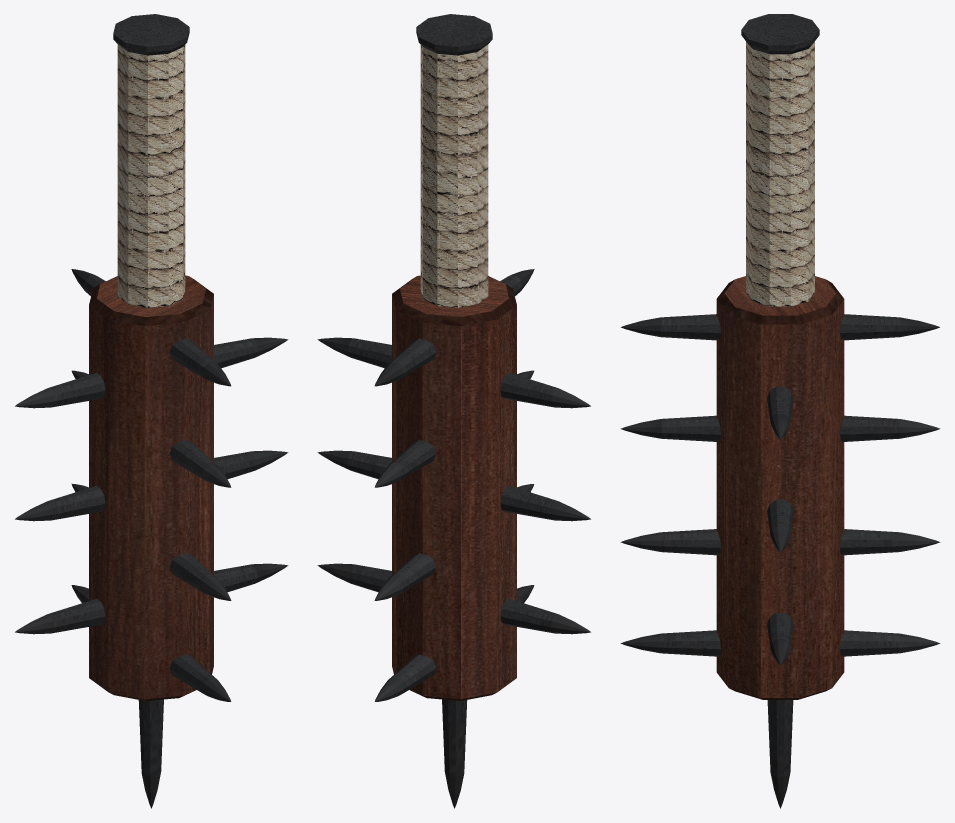
File: TrenchClub.fbx
3 renders of one model, left to right at view 1: azimuth 30°, elevation 25°; view 2: azimuth 150°, elevation 25°; view 3: azimuth 270°, elevation 25°, orthographic.
Parts seen in each view (by area): view 1: ZomboidTrenchClub; view 2: ZomboidTrenchClub; view 3: ZomboidTrenchClub.
Boxes of the visible parts, left/top/right/bottom form: ZomboidTrenchClub: left=15, top=14, right=288, bottom=808; ZomboidTrenchClub: left=317, top=14, right=590, bottom=808; ZomboidTrenchClub: left=620, top=14, right=940, bottom=808.
Bounding box in the file's own units: 0.1323 × 0.3591 × 0.1338.
